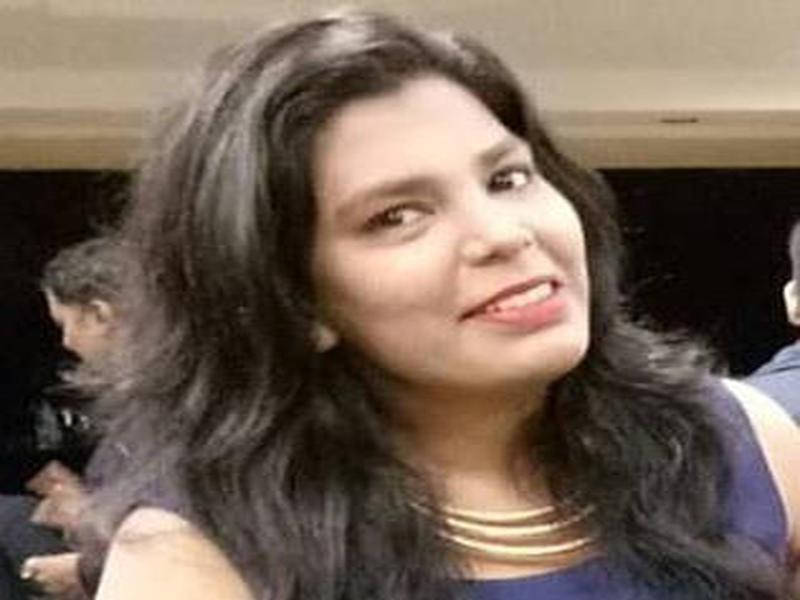without_mask: (297, 99, 597, 387)
